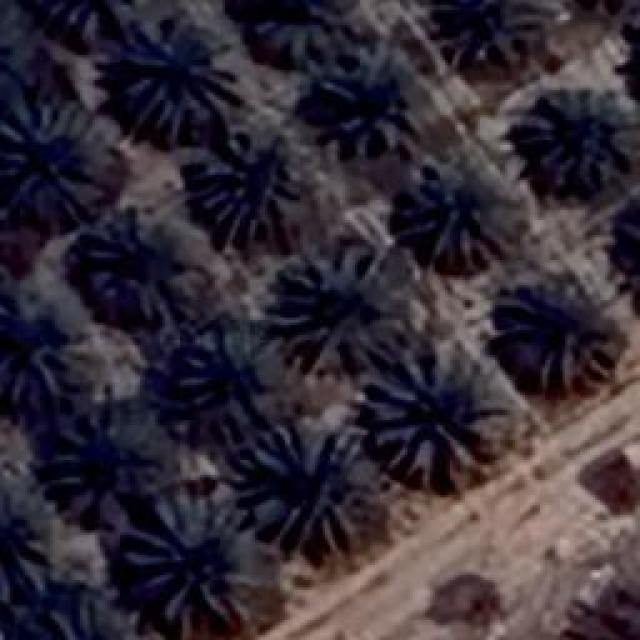PalmTree: (122, 488, 258, 630), (360, 348, 492, 490), (235, 420, 363, 545), (278, 245, 400, 375), (117, 18, 240, 140), (80, 205, 208, 320), (495, 280, 623, 390), (402, 152, 516, 270), (190, 125, 302, 240), (520, 85, 638, 193), (0, 92, 95, 218), (59, 418, 169, 518), (335, 40, 430, 150), (92, 18, 295, 65), (180, 325, 275, 425), (0, 291, 75, 409), (440, 0, 550, 62), (0, 584, 125, 638), (572, 574, 640, 640), (0, 492, 45, 586), (613, 192, 640, 308), (0, 0, 28, 103), (621, 190, 640, 302), (0, 0, 20, 102)
